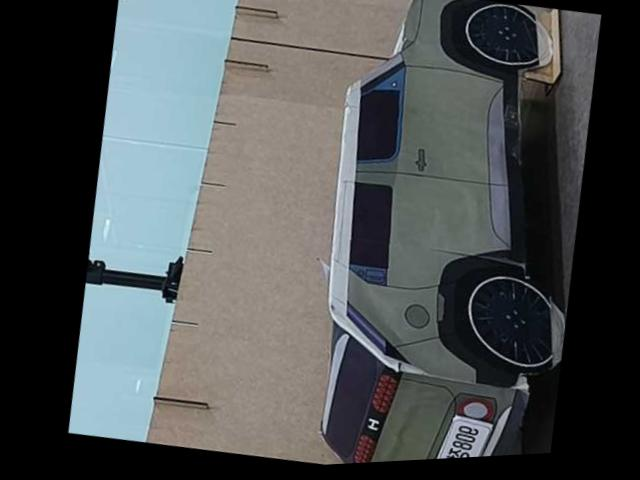car: (270, 0, 626, 466)
id: (423, 407, 493, 459)
